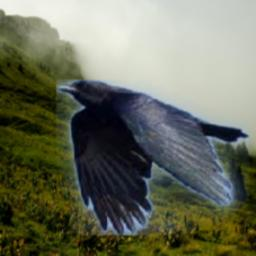Crow: (55, 81, 248, 236)
